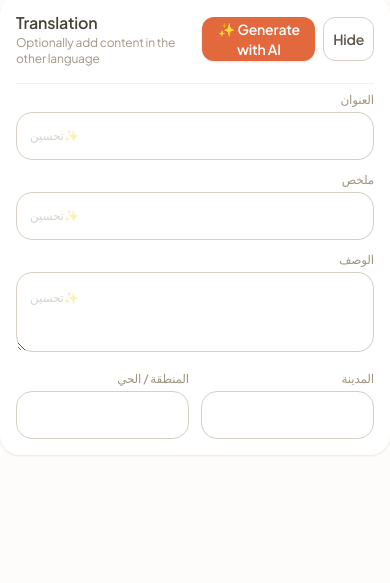
Test: TranslationEditor AI generation › shows an error message when translation generation fails
The width and height of the screenshot is (390, 583).
Click the button "✨ Generate with AI" at [259, 39], box [202, 17, 316, 61]
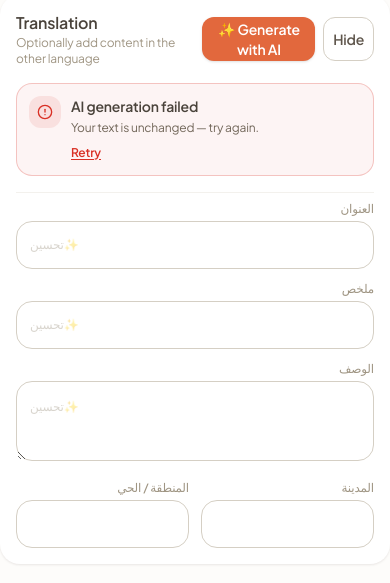
Check: the message shows "AI generation failed", box [71, 97, 198, 115]
Check: the message shows "Your text is unchanged — try again.", box [71, 120, 259, 135]
